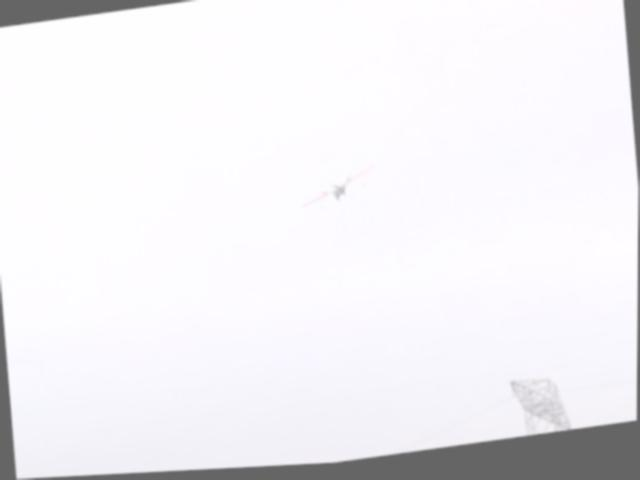iha: (299, 167, 382, 215)
